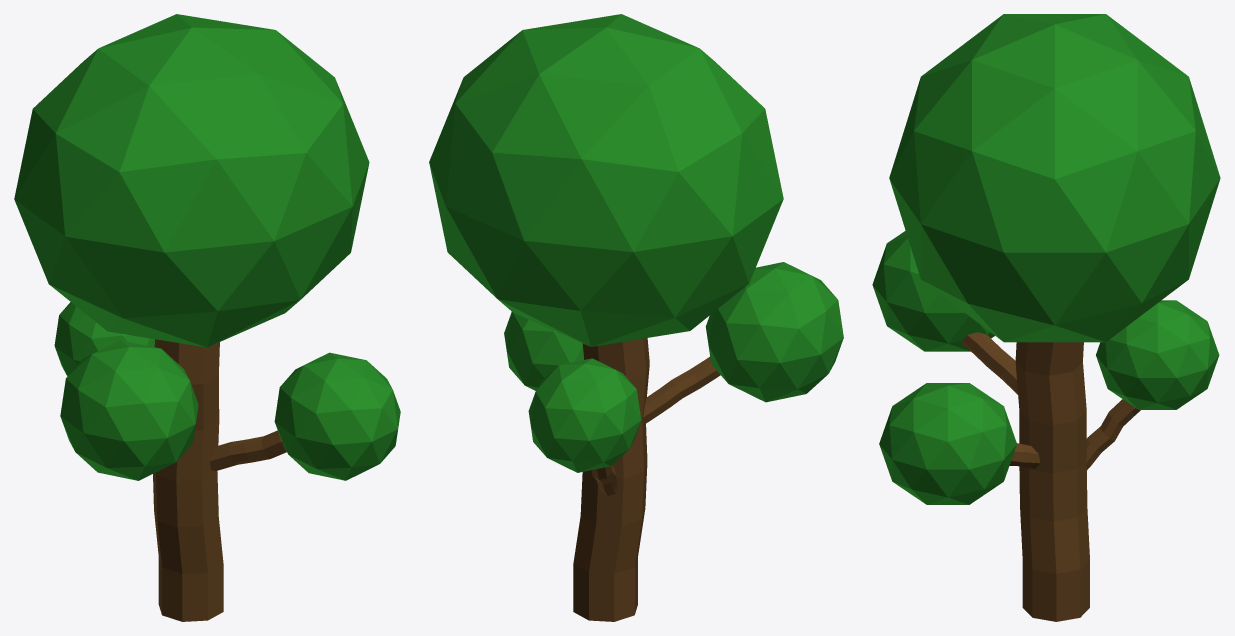
File: Tree.glb
The picture shows the model from 3 angles, left to right: view 1: azimuth 30°, elevation 25°; view 2: azimuth 150°, elevation 25°; view 3: azimuth 270°, elevation 25°; orthographic projection.
Parts seen in each view (by area): view 1: Икосфера; view 2: Икосфера; view 3: Икосфера.
Part boxes in pixels (x1,y1,x2,y2): Икосфера: (14,14,400,621); Икосфера: (429,14,843,621); Икосфера: (872,14,1220,621).
Size of the model in its own units: 4.47 by 7.63 by 4.13.
